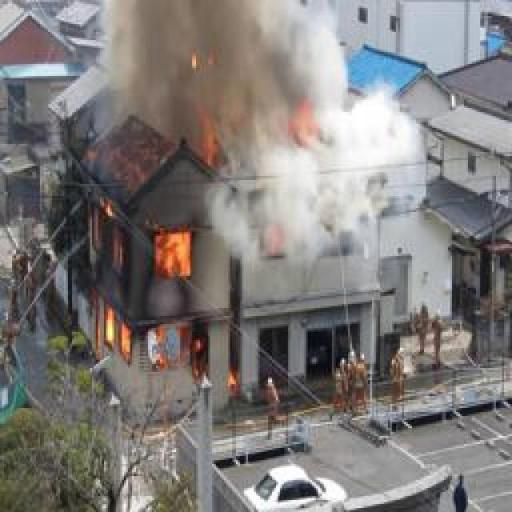smoke: (68, 189, 248, 411)
